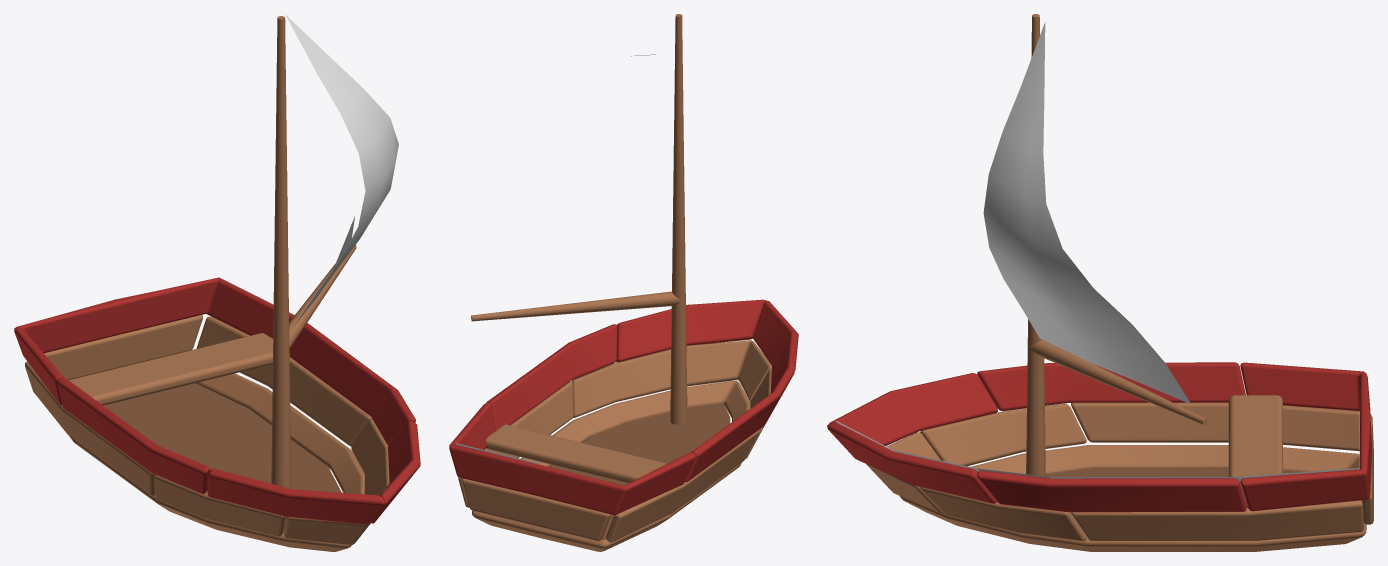
The model's file is Sailboat.glb.
3 views of the same model, side by side, from view 1: azimuth 30°, elevation 25°; view 2: azimuth 150°, elevation 25°; view 3: azimuth 270°, elevation 25° (orthographic). The views are drawn at different scales.
Visible parts, largest first — view 1: Boat.003, Boat, Boat.001, Vert.002, Plane, Boat.002, Plane.002; view 2: Boat.003, Boat, Vert.002, Boat.002, Boat.001, Plane.002; view 3: Boat.003, Boat, Plane, Boat.002, Vert.002, Plane.002, Boat.001, Plane.001.
Part boxes in pixels (x1,y1,x2,y2): Boat.003: (14,277,420,524); Boat: (25,315,389,544); Boat.001: (103,383,341,530); Vert.002: (271,16,356,488); Plane: (285,14,398,326); Boat.002: (69,373,364,551); Plane.002: (69,333,289,405); Boat.003: (449,299,798,514); Boat: (458,340,771,542); Vert.002: (471,14,687,424); Boat.002: (472,381,750,551); Boat.001: (549,403,730,539); Plane.002: (486,424,666,483); Boat.003: (827,362,1372,512); Boat: (866,402,1373,541); Plane: (983,22,1190,403); Boat.002: (899,445,1366,551); Vert.002: (1026,14,1207,476); Plane.002: (1228,395,1282,507); Boat.001: (1046,469,1296,476); Plane.001: (835,420,1361,501).
Bounding box in the file's own units: 3 × 5.03 × 5.02.
